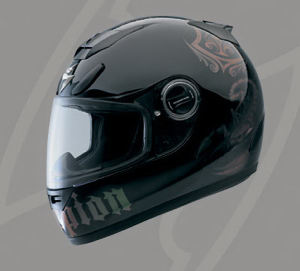helmet: (56, 35, 268, 201)
